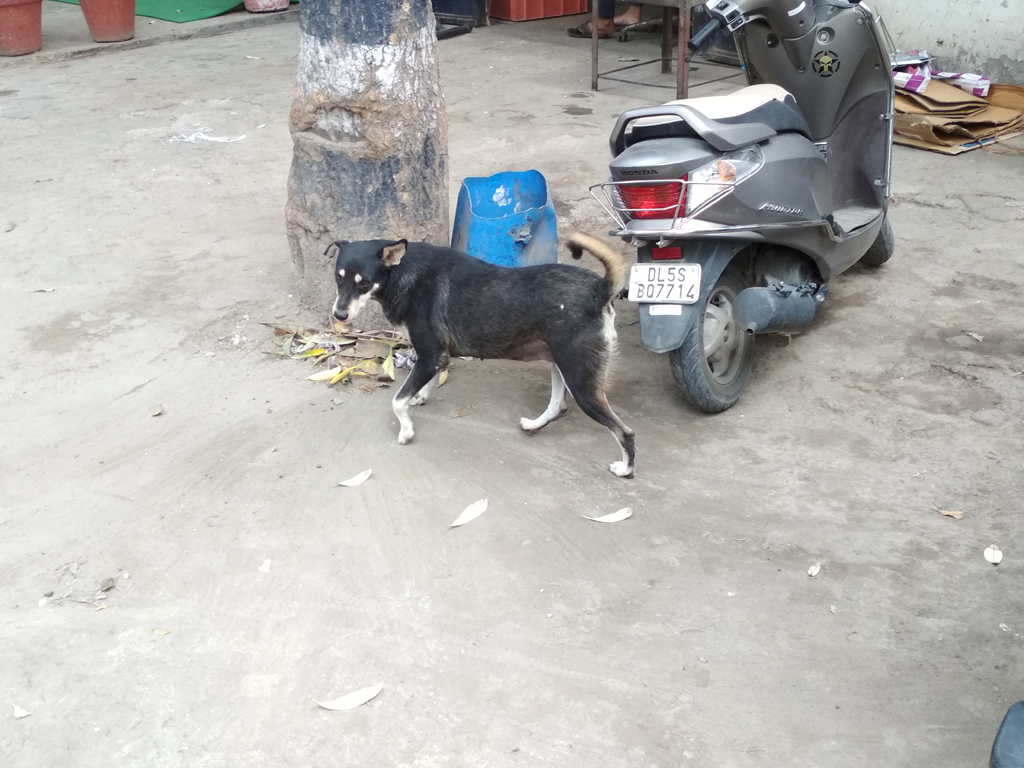dog: (324, 231, 636, 481)
